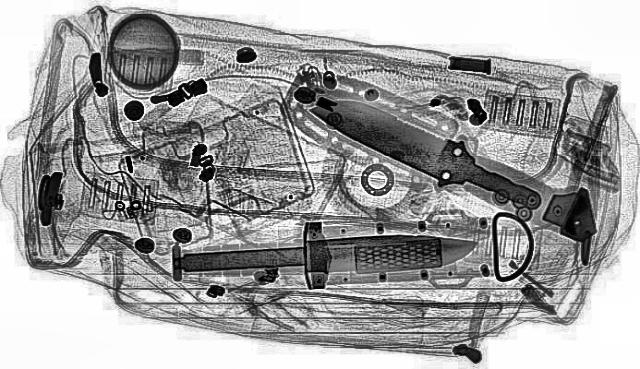Knife: (280, 84, 568, 222), (150, 210, 488, 300)
